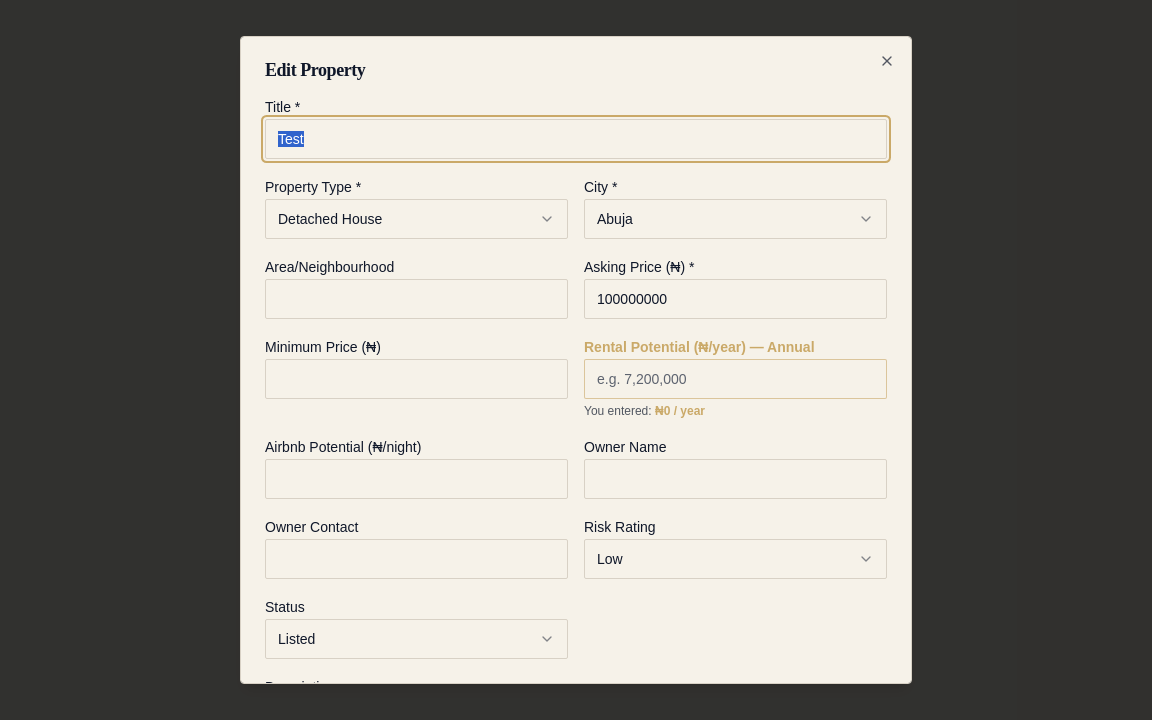
Test: PropertyForm yearly rent round-trip › rejects 25.01% yield (just over threshold)
In the number field labelled "Rental Potential (₦/year) — Annual": (736, 379) [584,359,887,399], type "25010000"
(page scrolled)
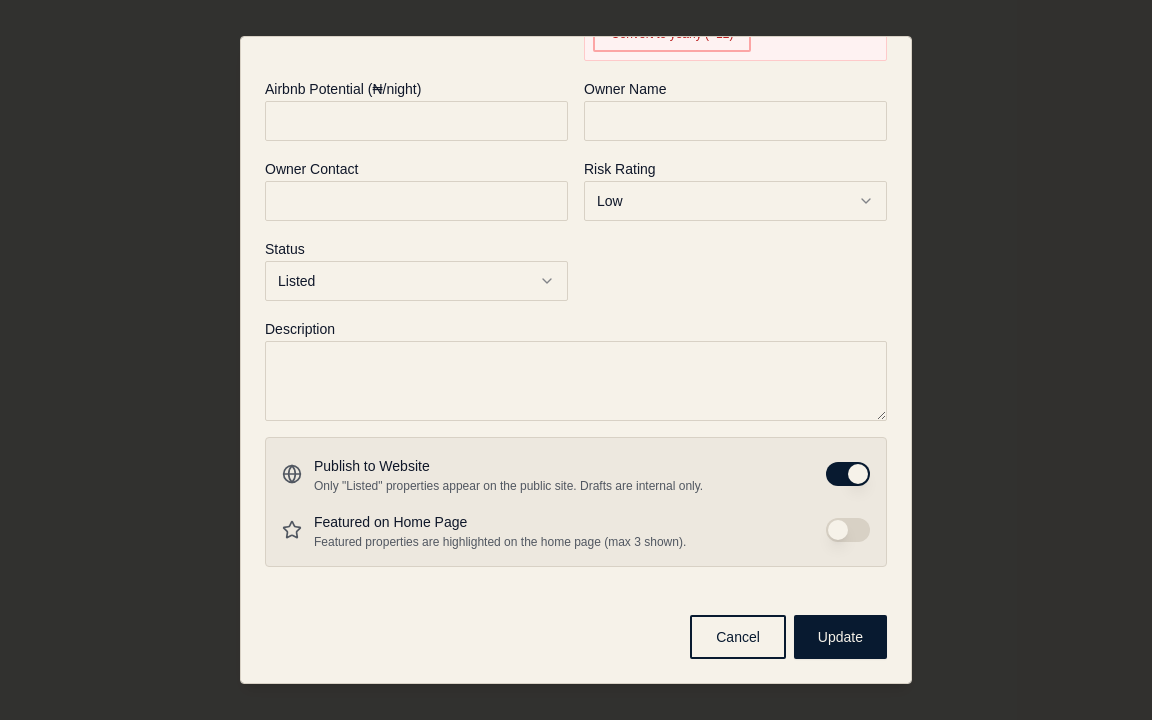
Click the button "Update": (840, 637) [794,615,887,659]
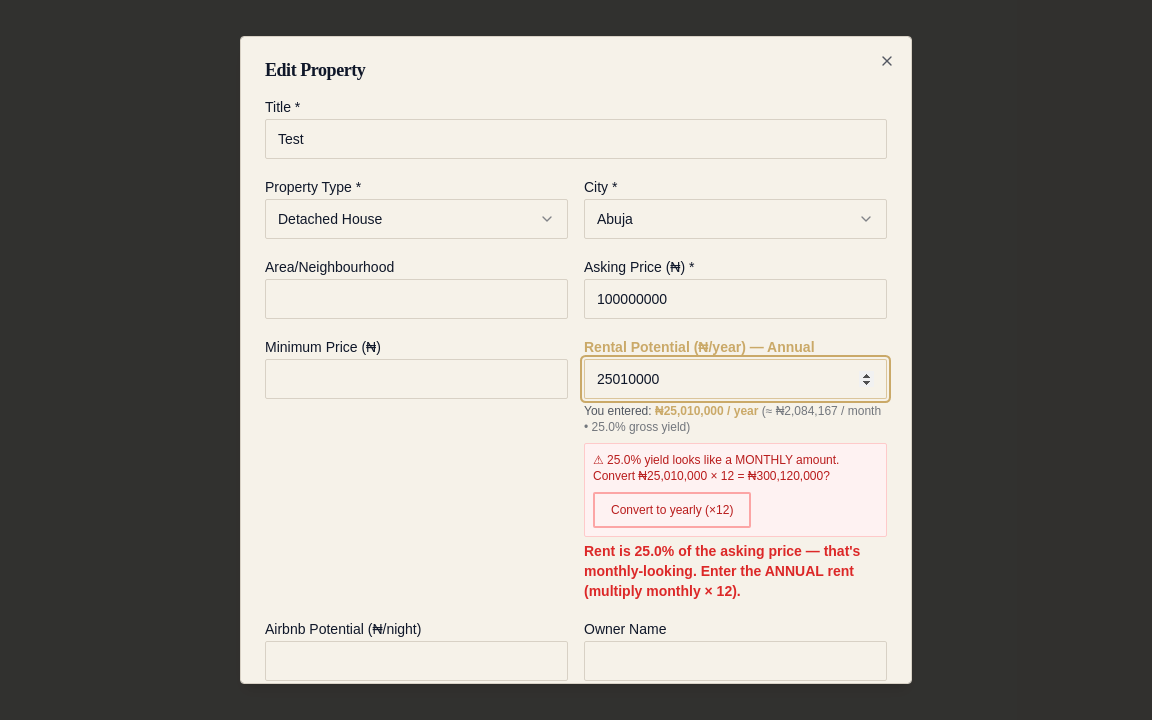
Check: the message shows "ANNUAL", box [584,543,860,599]
